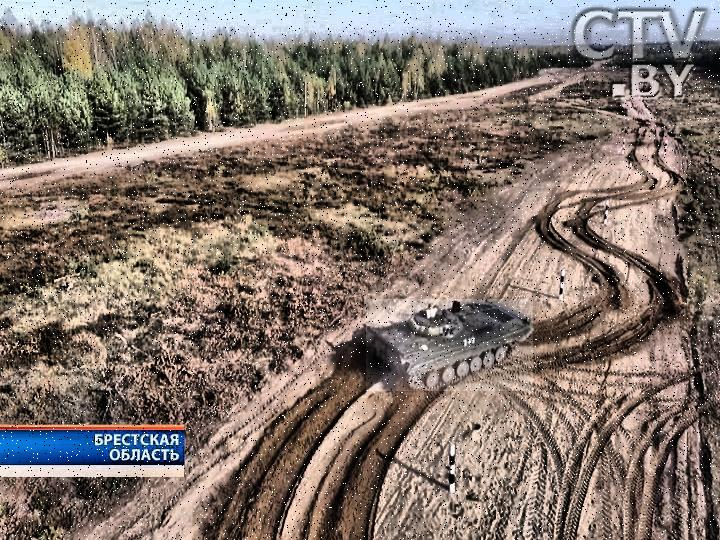military-vehicle: (367, 299, 534, 391)
